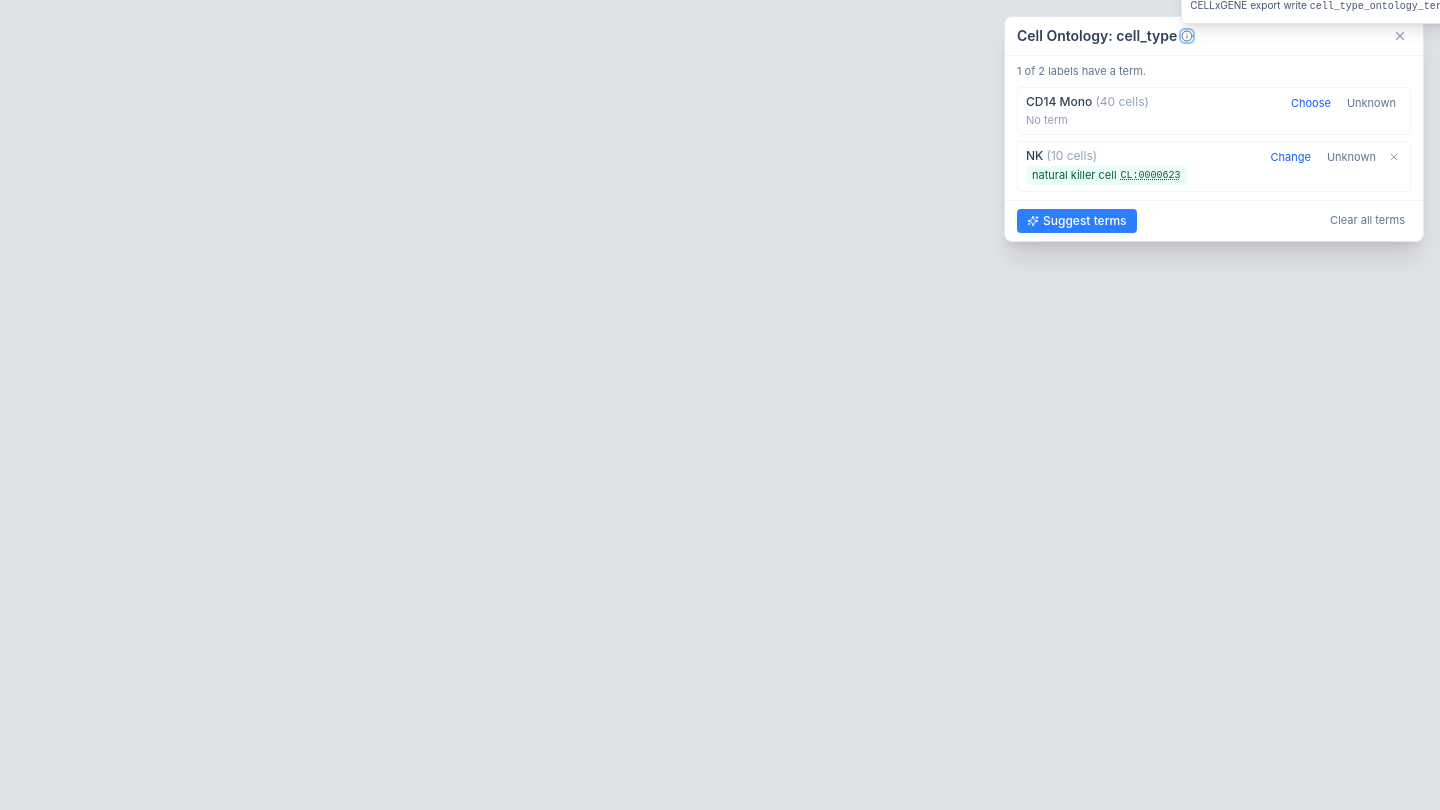
Test case: CellOntologyCard › suggests terms; accepting saves one, rejecting saves nothing
expect the text "1 of 2 labels have a term." is shown: met, box [1017, 64, 1146, 78]
Click the button "Suggest terms" at x=1077, y=221, box [1017, 209, 1137, 233]
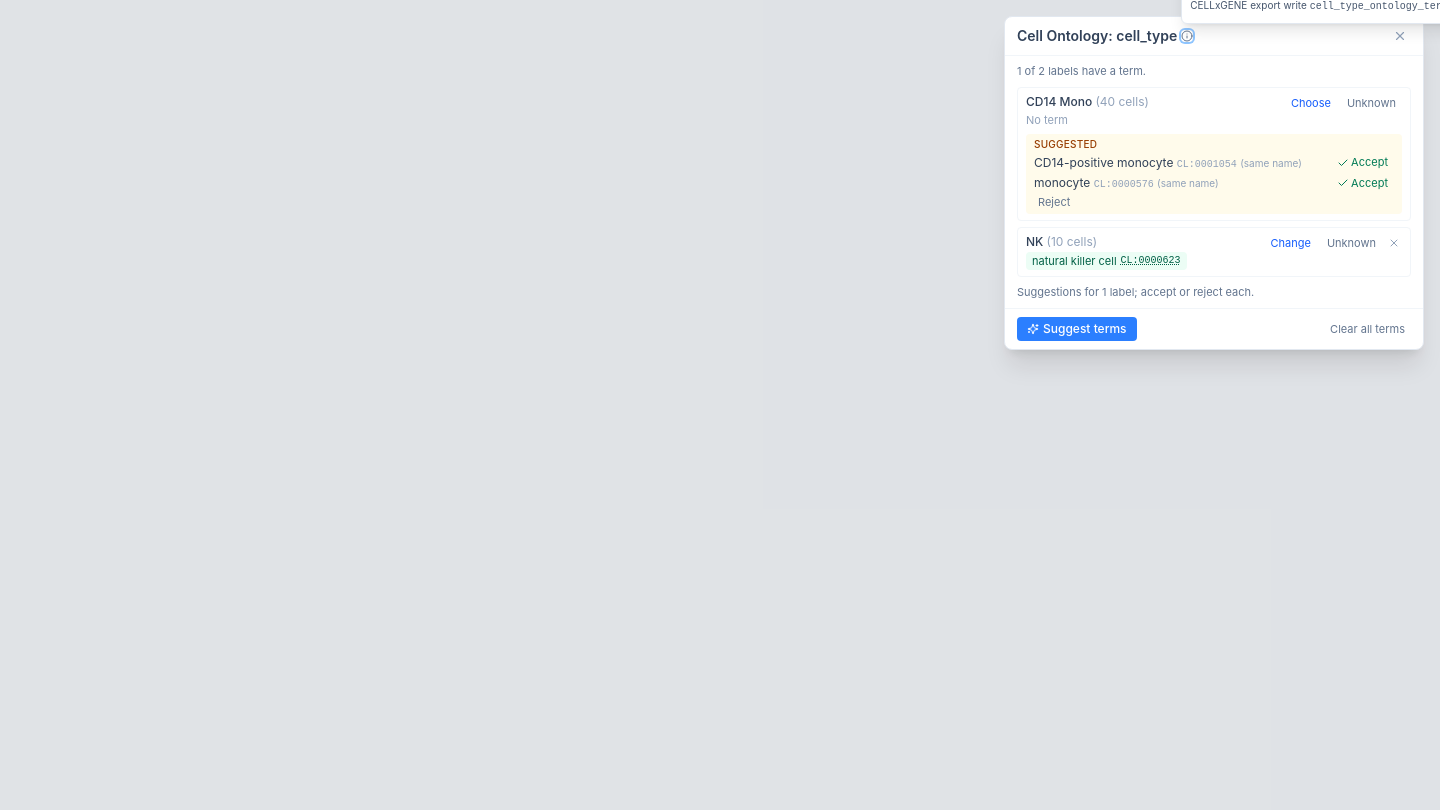
expect the text "Suggestions for 1 label; accept or reject each." is shown: met, box [1017, 285, 1254, 299]
Click the button with aria-label "Accept CD14-positive monocyte for CD14 Mono" at x=1363, y=163, box [1331, 154, 1394, 172]
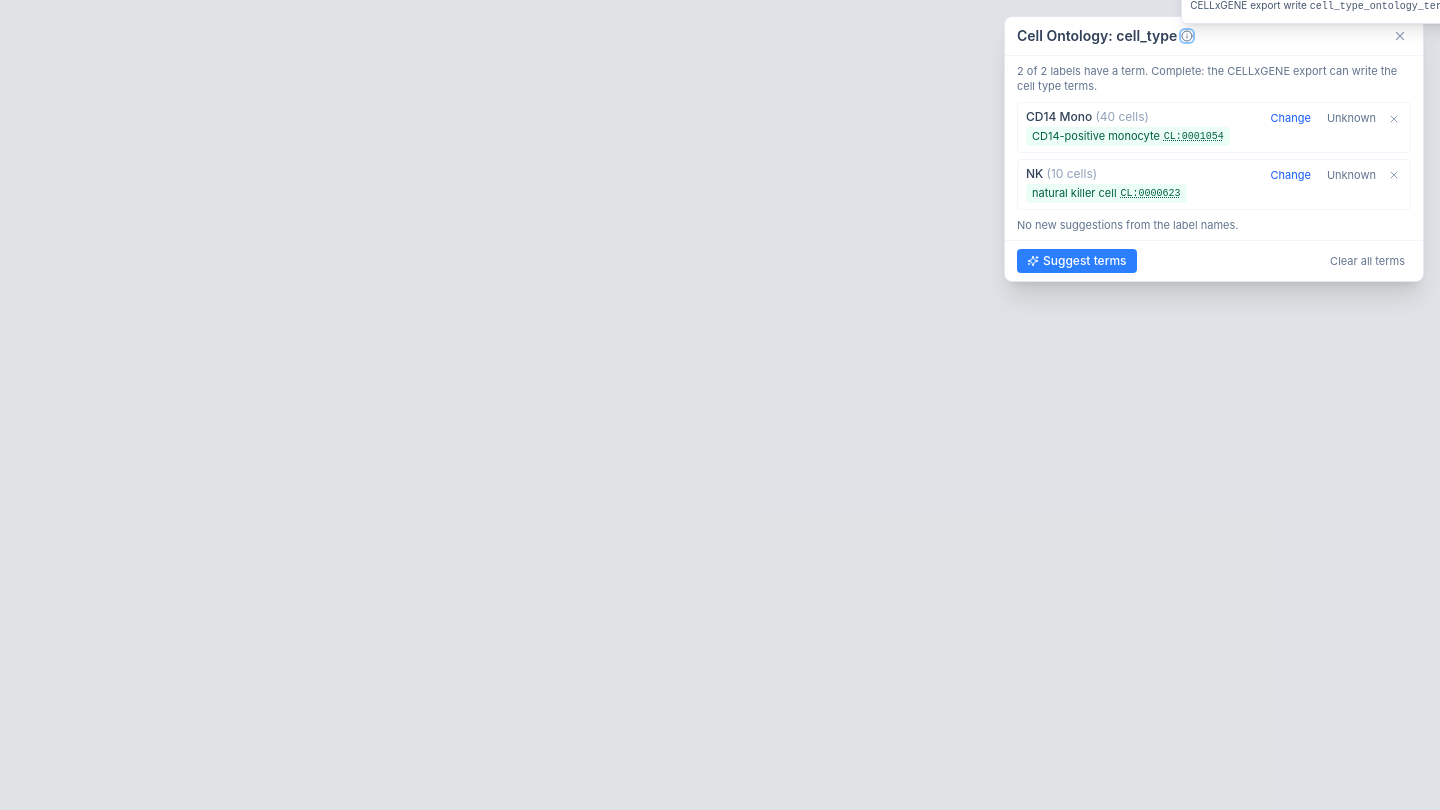
expect the text "2 of 2 labels have a term. Complete" is shown: met, box [1017, 64, 1411, 94]
expect the list "Accept monocyte" is gone: met
